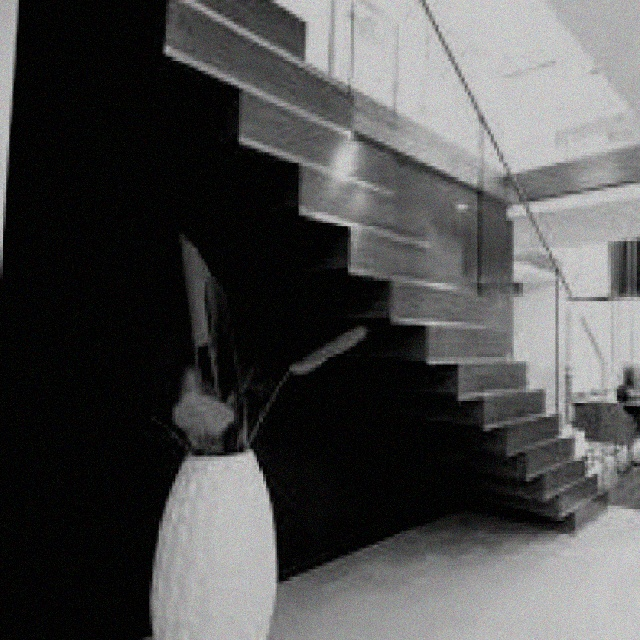stair: (0, 1, 639, 640)
